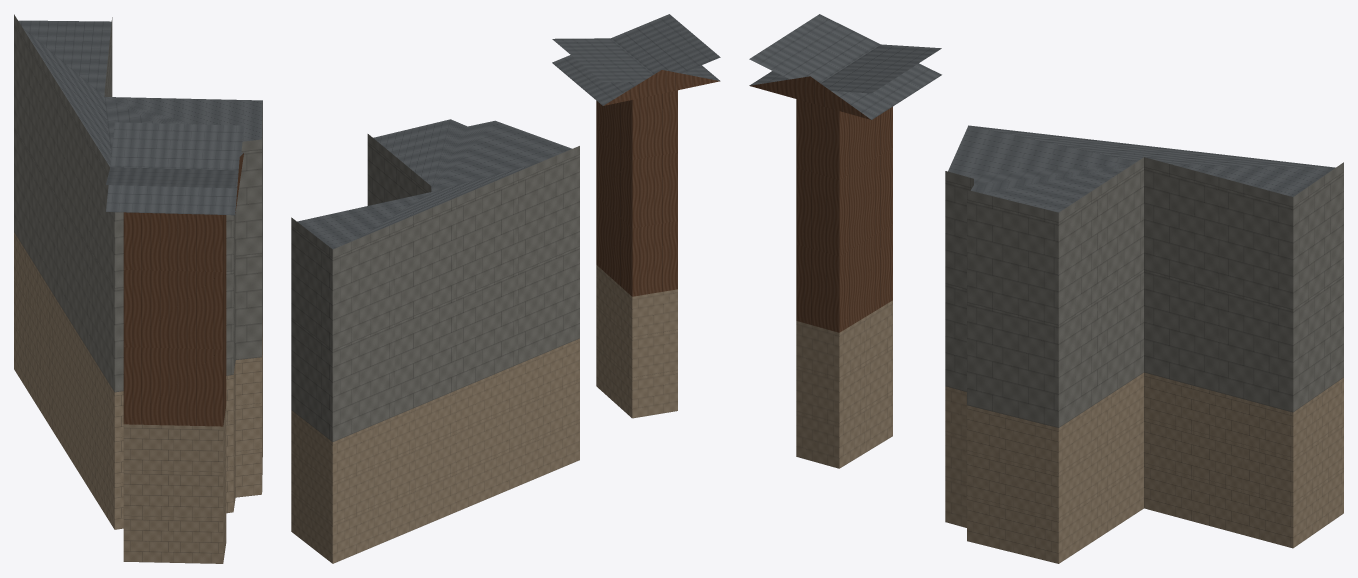
File: bld_c36_-26_438.gltf
The picture shows the model from 3 angles, left to right: view 1: azimuth 30°, elevation 25°; view 2: azimuth 150°, elevation 25°; view 3: azimuth 270°, elevation 25°; orthographic projection. The views are drawn at different scales.
Visible parts, largest first — view 1: bld_c36_-26_438; view 2: bld_c36_-26_438; view 3: bld_c36_-26_438.
Boxes of the visible parts, box(x1,y1,x2,y2) form: bld_c36_-26_438: box(14, 14, 262, 563); bld_c36_-26_438: box(291, 14, 720, 563); bld_c36_-26_438: box(749, 14, 1343, 563).
Size of the model in its own units: 10.79 by 15.6 by 20.23.
6 materials, 6 textured.
